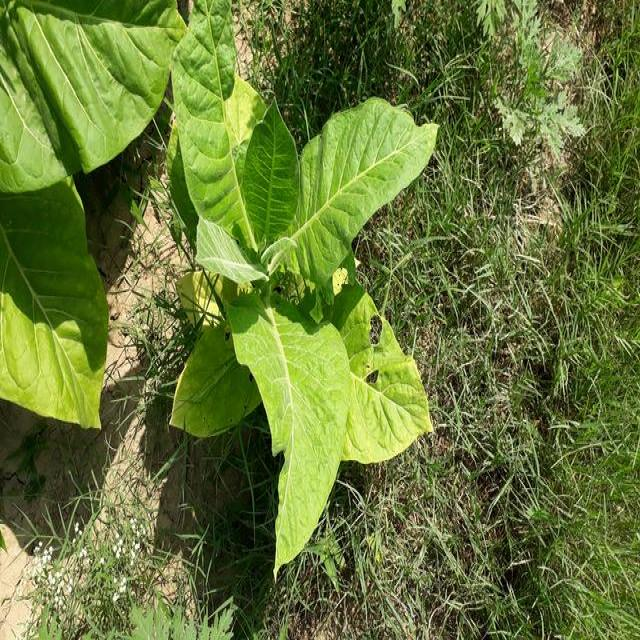crop: (178, 17, 432, 576)
